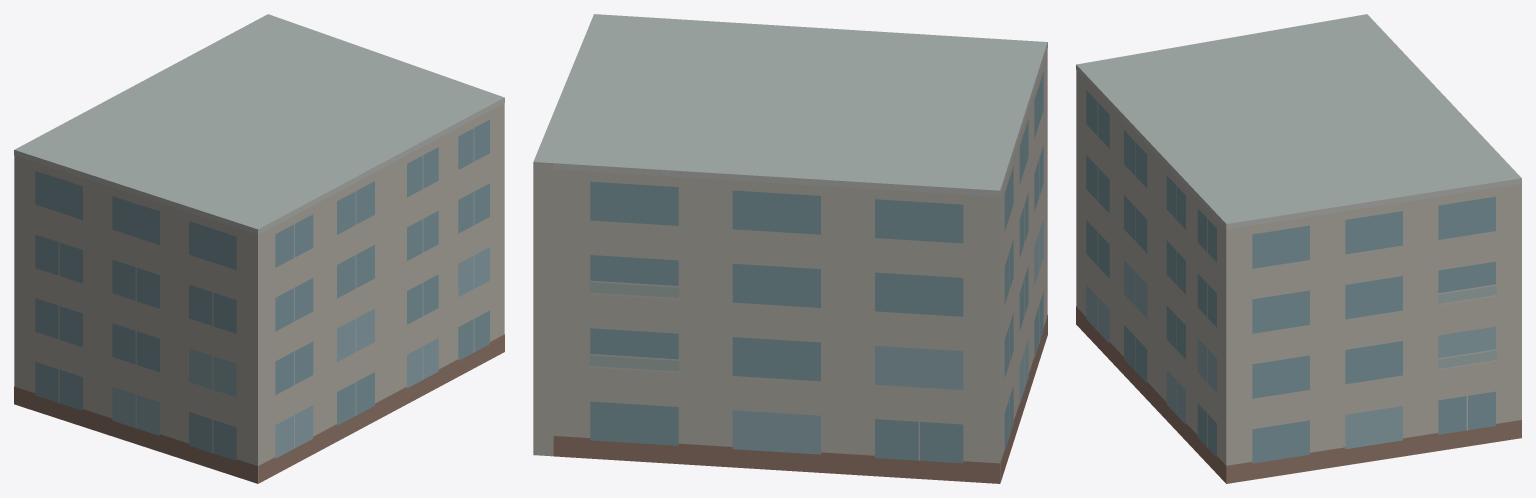
Rendered from survey-upis-32480608.glb.
3 views of the same model, side by side, from view 1: azimuth 30°, elevation 25°; view 2: azimuth 150°, elevation 25°; view 3: azimuth 270°, elevation 25° (orthographic). The views are drawn at different scales.
Visible parts, largest first — view 1: survey-upis-32480608.tmp; view 2: survey-upis-32480608.tmp; view 3: survey-upis-32480608.tmp.
Boxes of the visible parts, x1=… form: survey-upis-32480608.tmp: x1=14, y1=14, x2=504, y2=483; survey-upis-32480608.tmp: x1=533, y1=14, x2=1047, y2=483; survey-upis-32480608.tmp: x1=1076, y1=14, x2=1521, y2=483.
Size of the model in its own units: 19.95 by 11.5 by 17.88.
